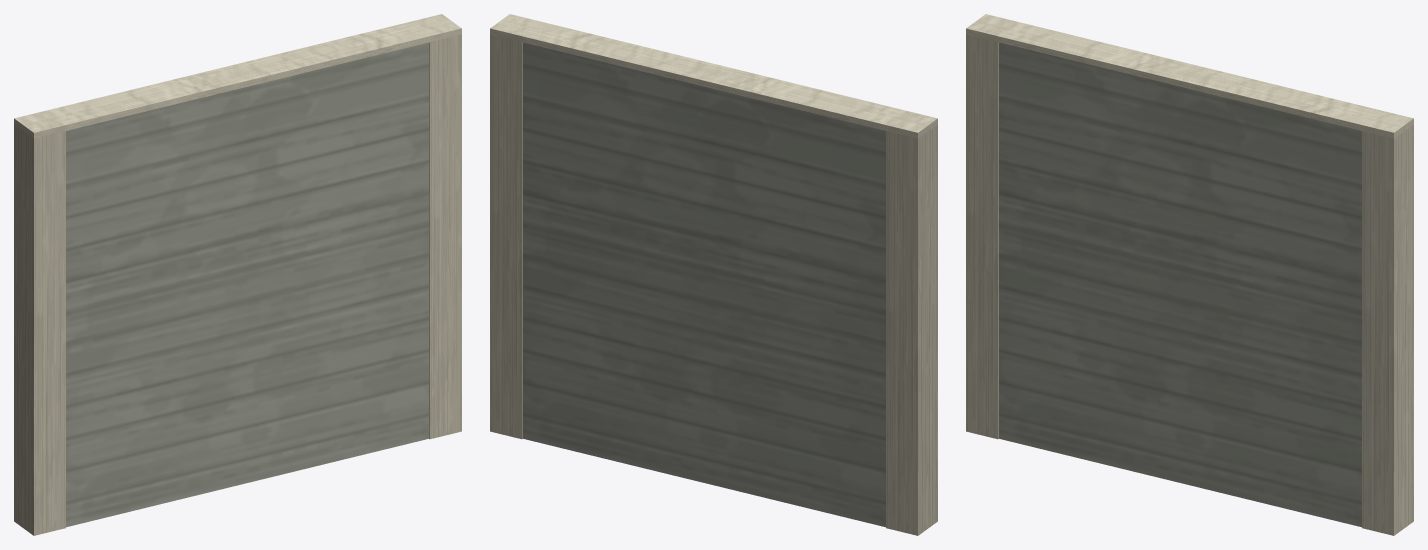
Rendered from house_wall_solid.glb.
3 views of the same model, side by side, from view 1: azimuth 30°, elevation 25°; view 2: azimuth 150°, elevation 25°; view 3: azimuth 330°, elevation 25° (orthographic).
Parts seen in each view (by area): view 1: outdoor_house_wall_solid; view 2: outdoor_house_wall_solid; view 3: outdoor_house_wall_solid.
Part boxes in pixels (x1,y1,x2,y2): outdoor_house_wall_solid: (14, 14, 461, 535); outdoor_house_wall_solid: (490, 14, 937, 535); outdoor_house_wall_solid: (966, 14, 1413, 535).
Bounding box in the file's own units: 3 × 2.7 × 0.24.
1 material, 1 textured.
